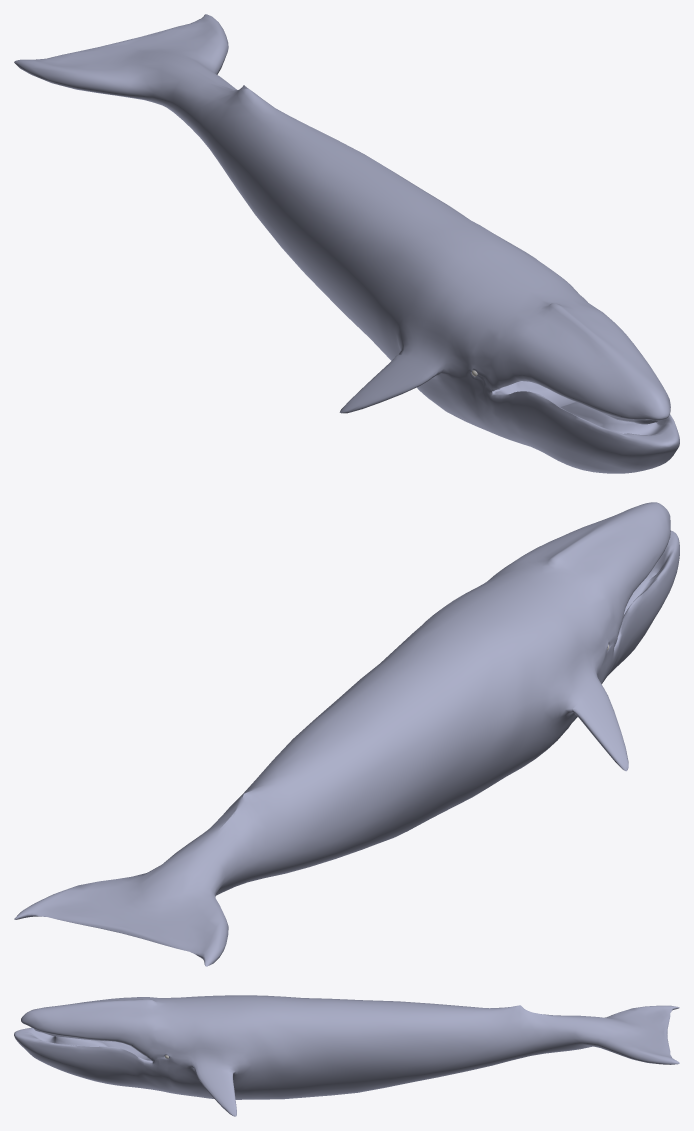
The model's file is BL_WHALE.obj.
3 views of the same model, one above another, from view 1: azimuth 30°, elevation 25°; view 2: azimuth 150°, elevation 25°; view 3: azimuth 270°, elevation 25° (orthographic). The views are drawn at different scales.
Parts seen in each view (by area): view 1: blw_body; view 2: blw_body; view 3: blw_body.
Part boxes in pixels (left/top/right/bottom): blw_body: left=14, top=14, right=679, bottom=473; blw_body: left=14, top=502, right=679, bottom=966; blw_body: left=14, top=995, right=679, bottom=1116.
Size of the model in its own units: 9.41 by 5.18 by 31.81.
